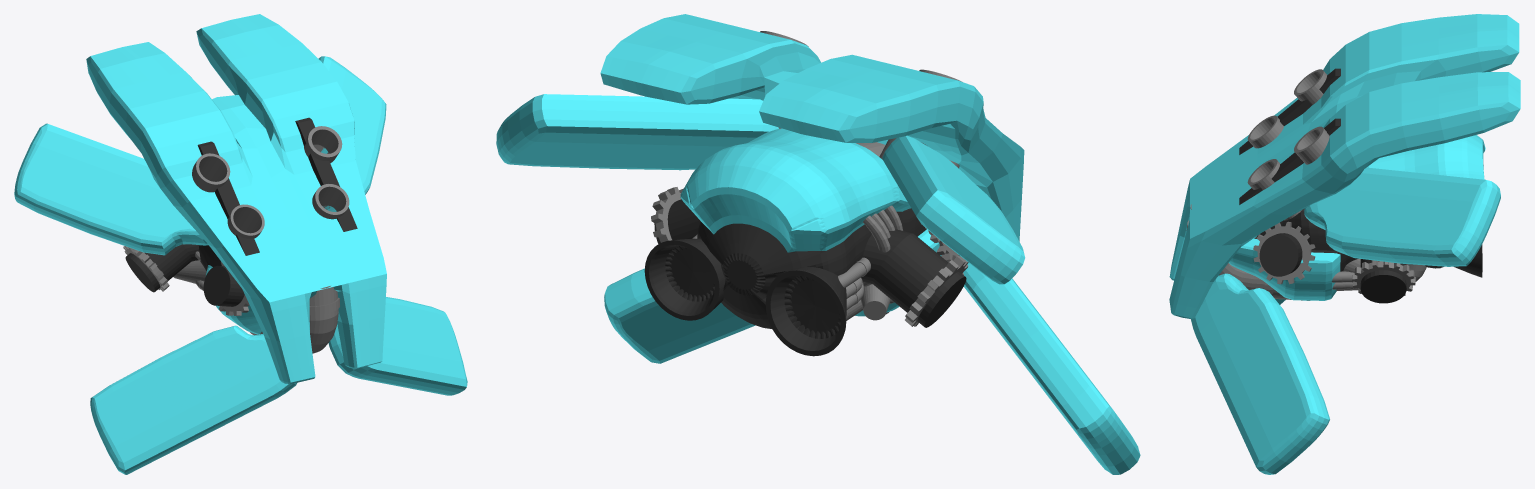
File: MissileShip_Core.fbx
3 renders of one model, left to right at view 1: azimuth 30°, elevation 25°; view 2: azimuth 150°, elevation 25°; view 3: azimuth 270°, elevation 25°, orthographic. The views are drawn at different scales.
Visible parts, largest first — view 1: Cube, Cube.001, Cube.002, Cylinder.019, Cube.003, Cylinder.021, Cylinder.020, Cylinder.009, Cylinder.022, Circle.003, Cylinder.008; view 2: Cube, Cube.002, Cylinder, Cylinder.022, Cube.001, Cylinder.020, Circle.003, Cylinder.008; view 3: Cube, Cube.001, Cube.002, Cylinder.022, Cylinder.019, Cube.003, Cylinder.009, Cylinder, Cylinder.020, Circle, Circle.003, Cylinder.021.
Part boxes in pixels (left/top/right/bottom): Cube: left=86, top=14, right=386, bottom=384; Cube.001: left=90, top=297, right=467, bottom=474; Cube.002: left=14, top=56, right=386, bottom=255; Cylinder.019: left=192, top=126, right=349, bottom=238; Cube.003: left=197, top=117, right=357, bottom=255; Cylinder.021: left=250, top=286, right=339, bottom=353; Cylinder.020: left=125, top=244, right=199, bottom=292; Cylinder.009: left=203, top=265, right=244, bottom=306; Cylinder.022: left=206, top=265, right=261, bottom=334; Circle.003: left=123, top=246, right=169, bottom=291; Cylinder.008: left=173, top=260, right=206, bottom=283; Cube: left=600, top=14, right=1024, bottom=241; Cube.002: left=496, top=94, right=1025, bottom=284; Cylinder: left=644, top=208, right=926, bottom=356; Cylinder.022: left=680, top=128, right=941, bottom=316; Cube.001: left=604, top=263, right=1140, bottom=474; Cylinder.020: left=654, top=199, right=966, bottom=327; Circle.003: left=651, top=187, right=968, bottom=326; Cylinder.008: left=860, top=284, right=890, bottom=320; Cube: left=1169, top=14, right=1520, bottom=318; Cube.001: left=1191, top=273, right=1329, bottom=474; Cube.002: left=1304, top=167, right=1500, bottom=266; Cylinder.022: left=1228, top=135, right=1485, bottom=300; Cylinder.019: left=1247, top=69, right=1329, bottom=220; Cube.003: left=1239, top=68, right=1340, bottom=204; Cylinder.009: left=1259, top=233, right=1302, bottom=276; Cylinder: left=1254, top=211, right=1482, bottom=277; Cylinder.020: left=1360, top=259, right=1406, bottom=303; Circle: left=1253, top=221, right=1315, bottom=284; Circle.003: left=1352, top=260, right=1415, bottom=295; Cylinder.021: left=1186, top=204, right=1309, bottom=300.
Size of the model in its own units: 541 by 446 by 425.
